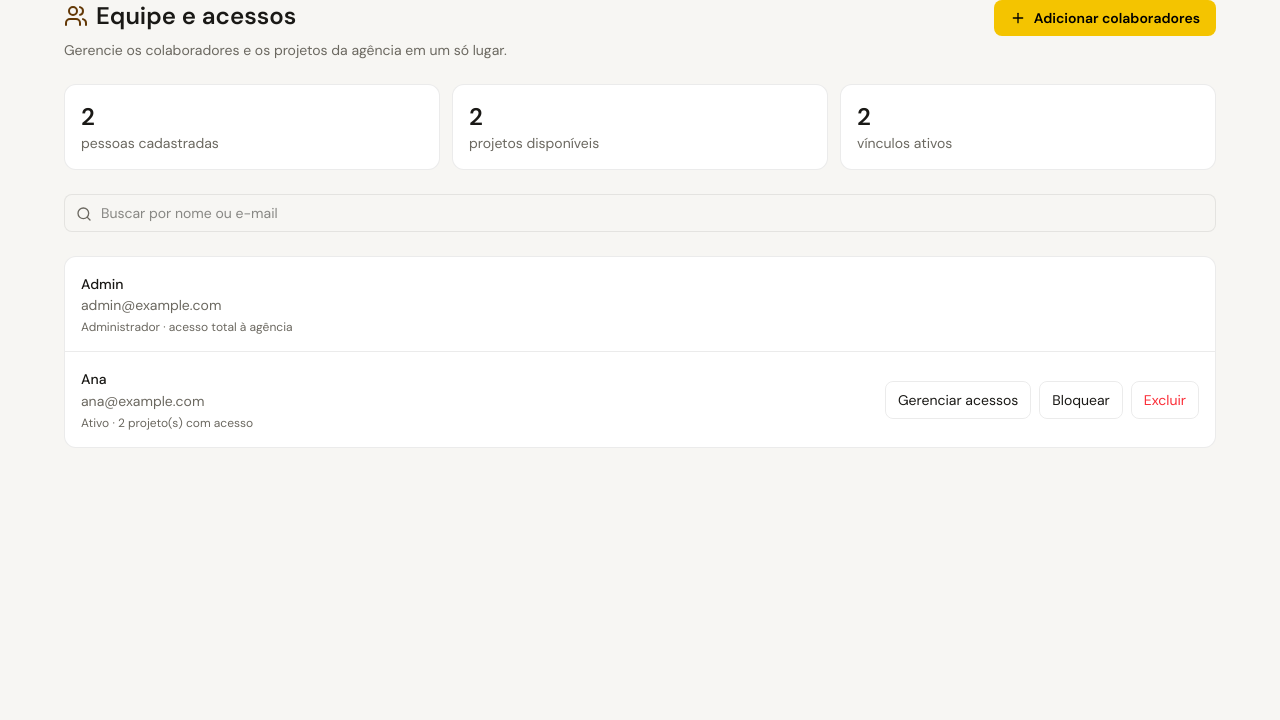
account lifecycle controls › confirms block and does not expose destructive controls for administrators
The width and height of the screenshot is (1280, 720).
Click the button named "Bloquear Ana" at (1081, 400), box top-left (1039, 381), bottom-right (1123, 419)
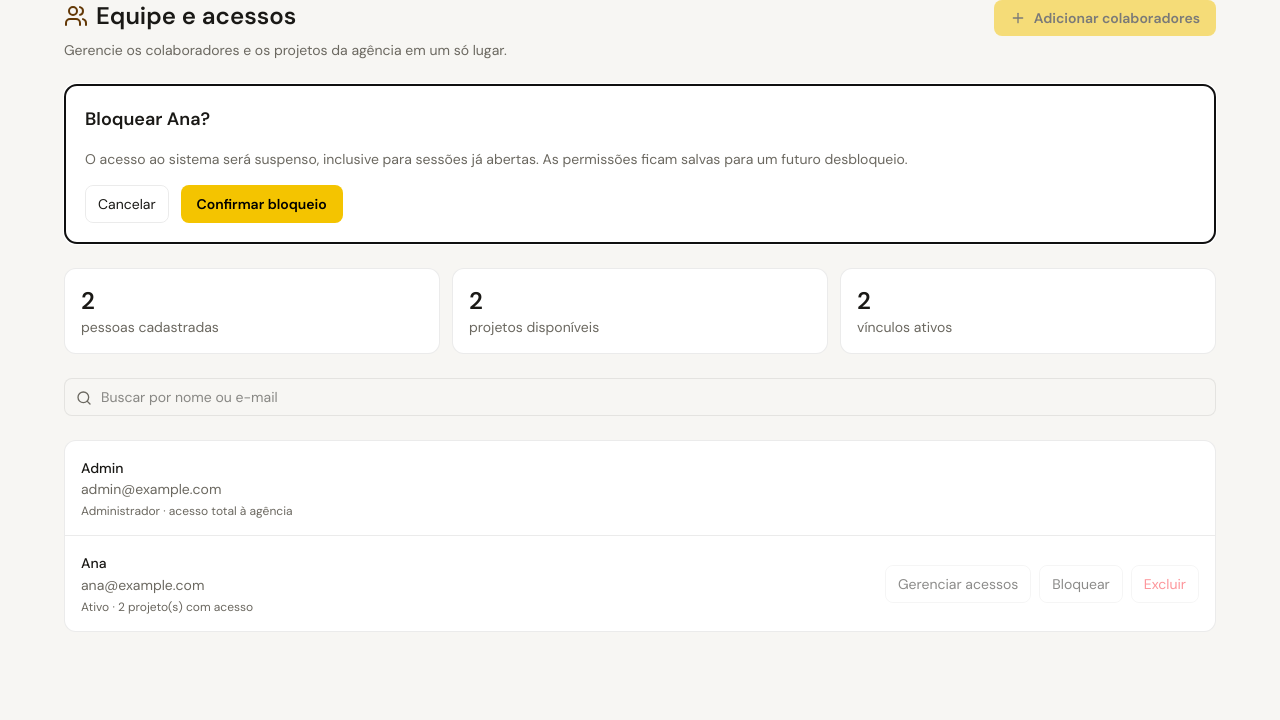
Click the button "Confirmar bloqueio" at (262, 204), box top-left (181, 185), bottom-right (343, 223)
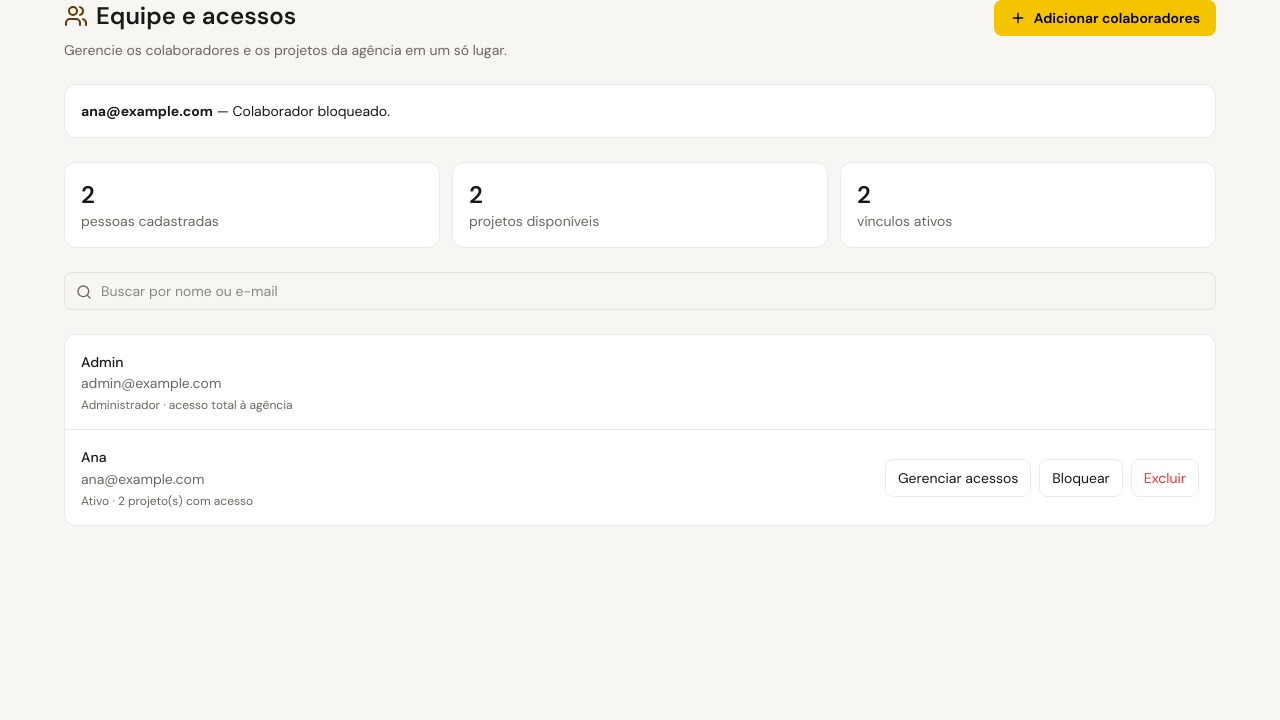
Expected: the text "ana@example.com — Colaborador bloqueado." is shown, top-left (81, 102), bottom-right (390, 120)
